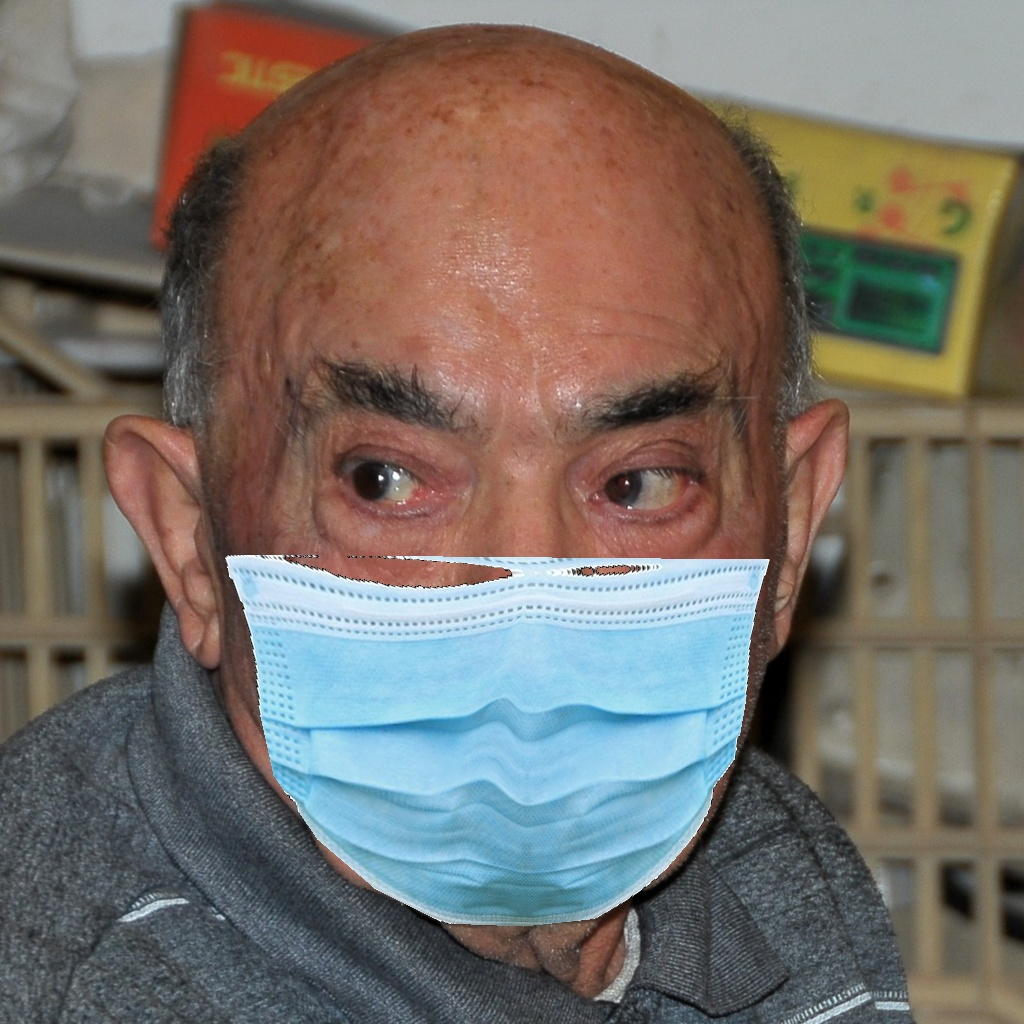Mask: (210, 348, 796, 926)
